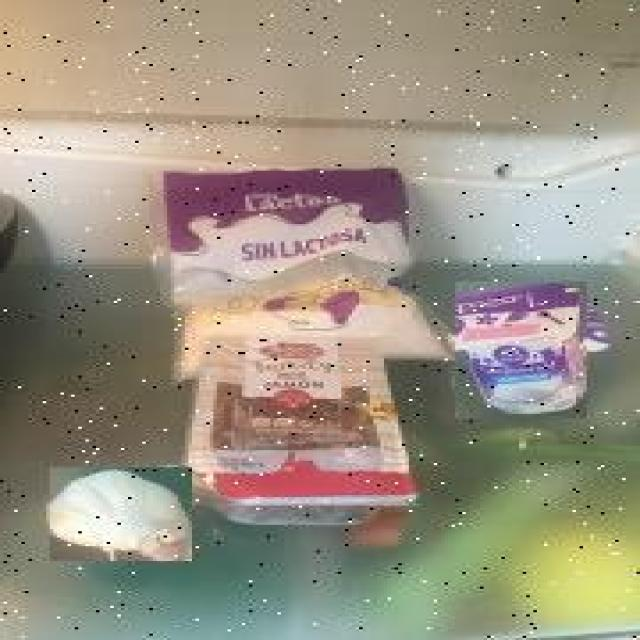garlic: (50, 468, 192, 562)
grated_cheese: (158, 166, 414, 348)
yogurt: (455, 283, 587, 419)
